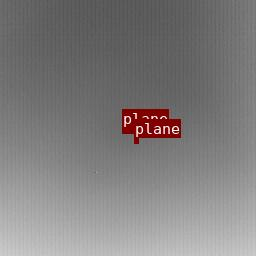plane: (122, 128, 135, 133), (134, 138, 138, 141)
